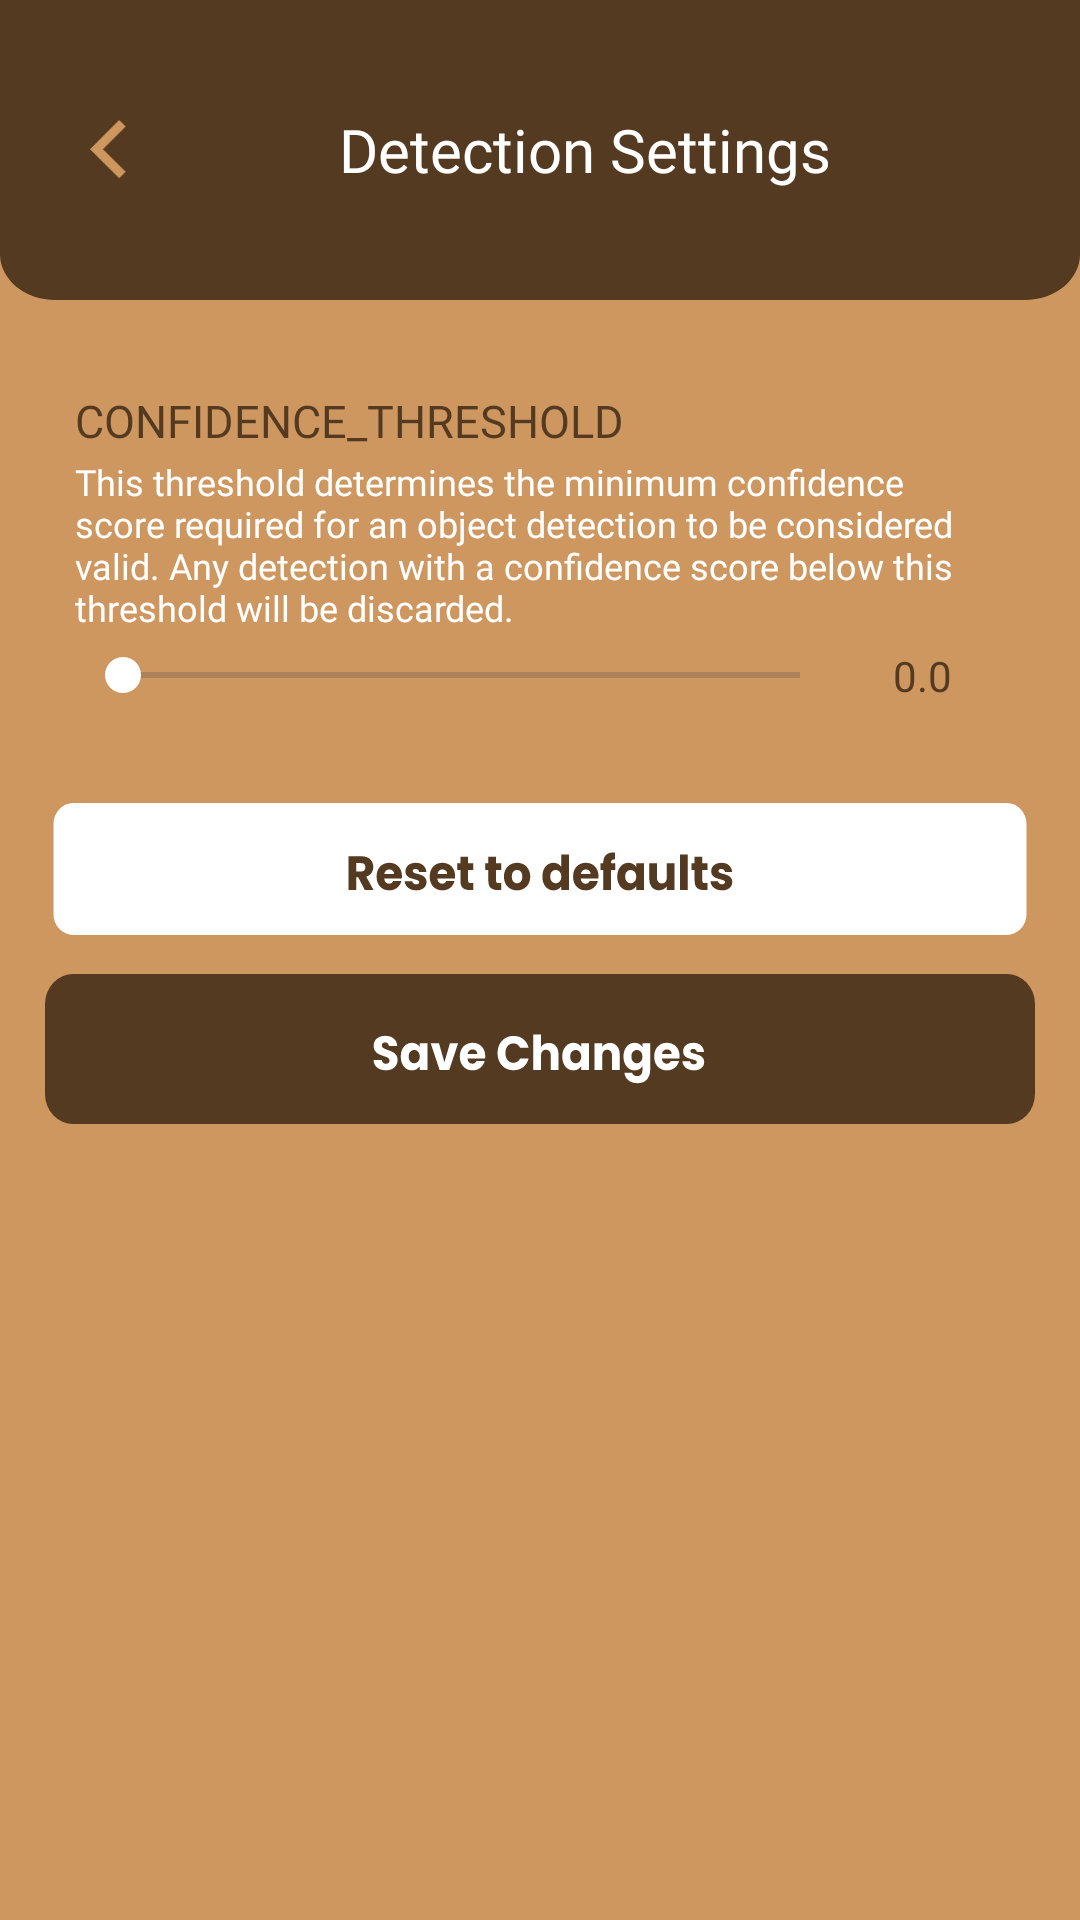

Icons on this 1080px x 1920px Android screen, each with its box as (x1, y1, x2, y2):
back: (90, 120, 126, 178)
